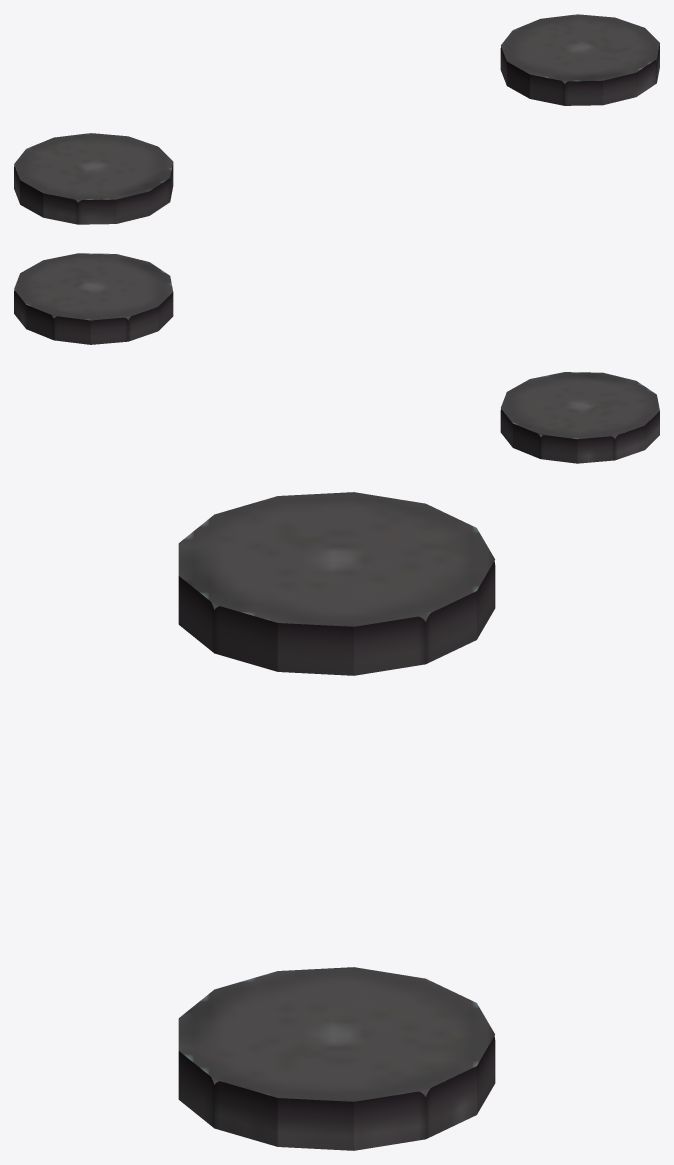
File: air_spring_upper.obj
3 views of the same model, one above another, from view 1: azimuth 30°, elevation 25°; view 2: azimuth 150°, elevation 25°; view 3: azimuth 270°, elevation 25° (orthographic). The views are drawn at different scales.
Parts seen in each view (by area): view 1: air_spring_upper; view 2: air_spring_upper; view 3: air_spring_upper.
Boxes of the visible parts, bbox=[...] form: air_spring_upper: bbox=[14, 14, 659, 224]; air_spring_upper: bbox=[14, 253, 659, 463]; air_spring_upper: bbox=[178, 492, 495, 1150].
Bounding box in the file's own units: 2.92 × 0.1094 × 0.6407.
